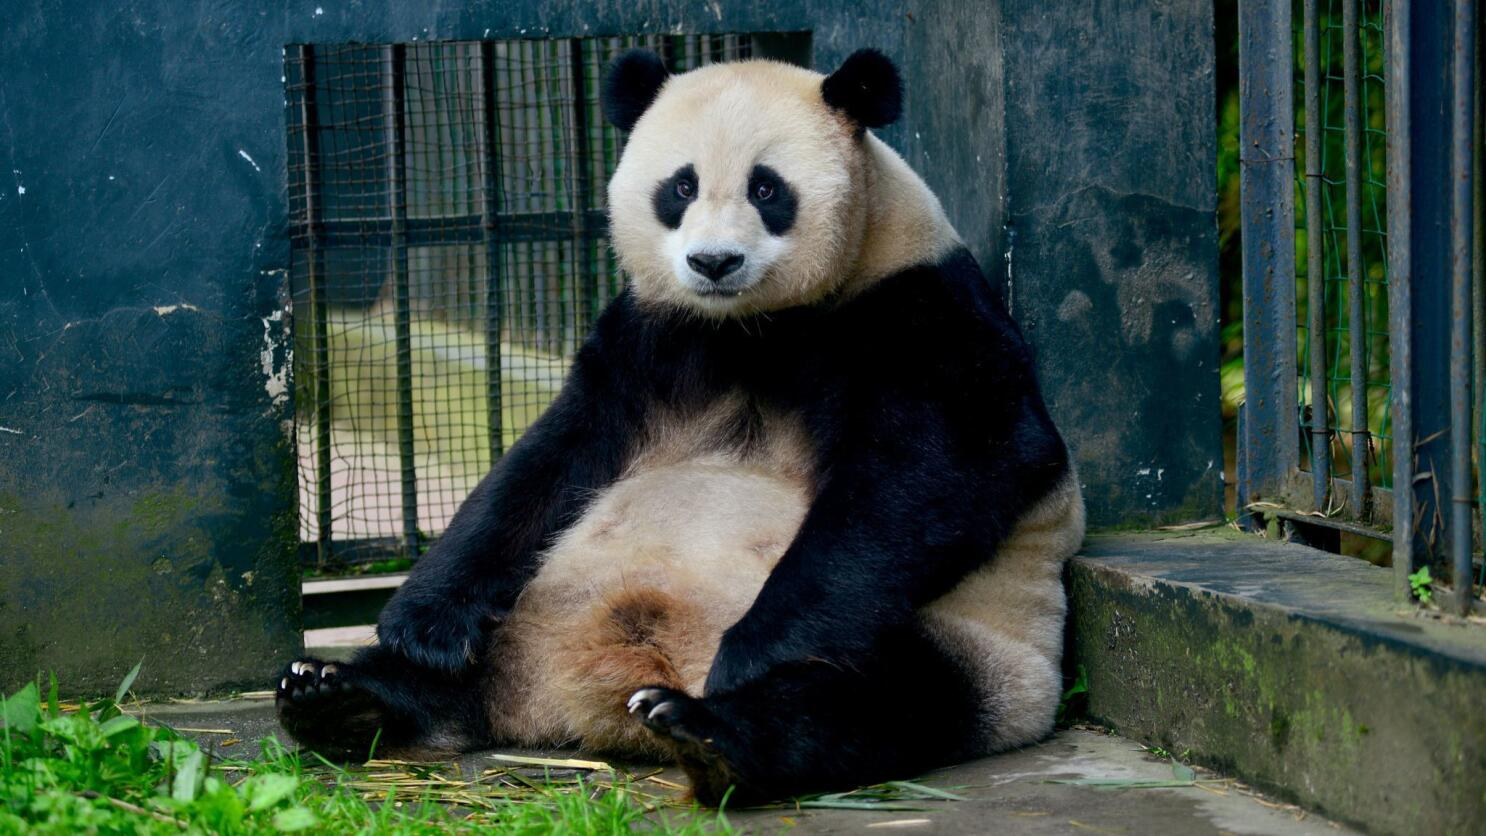Giant panda: (603, 41, 914, 317)
